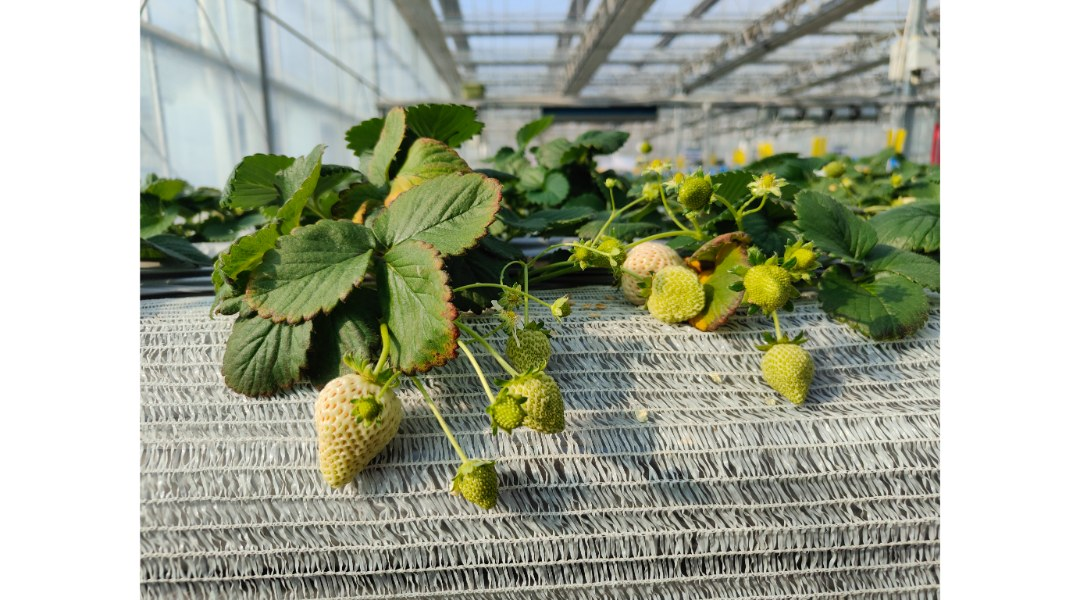berry: (311, 354, 411, 497), (616, 237, 690, 308), (501, 374, 567, 445), (753, 338, 818, 400), (644, 259, 699, 330), (498, 322, 557, 386), (738, 262, 806, 317), (450, 449, 499, 517), (482, 389, 525, 446), (667, 163, 715, 214), (543, 294, 579, 321)
flower: (746, 165, 792, 198)
strain: (404, 366, 472, 468), (446, 272, 555, 309), (453, 318, 518, 376), (454, 346, 497, 405), (368, 315, 390, 374), (628, 232, 679, 249), (770, 309, 787, 349), (522, 255, 526, 336)
